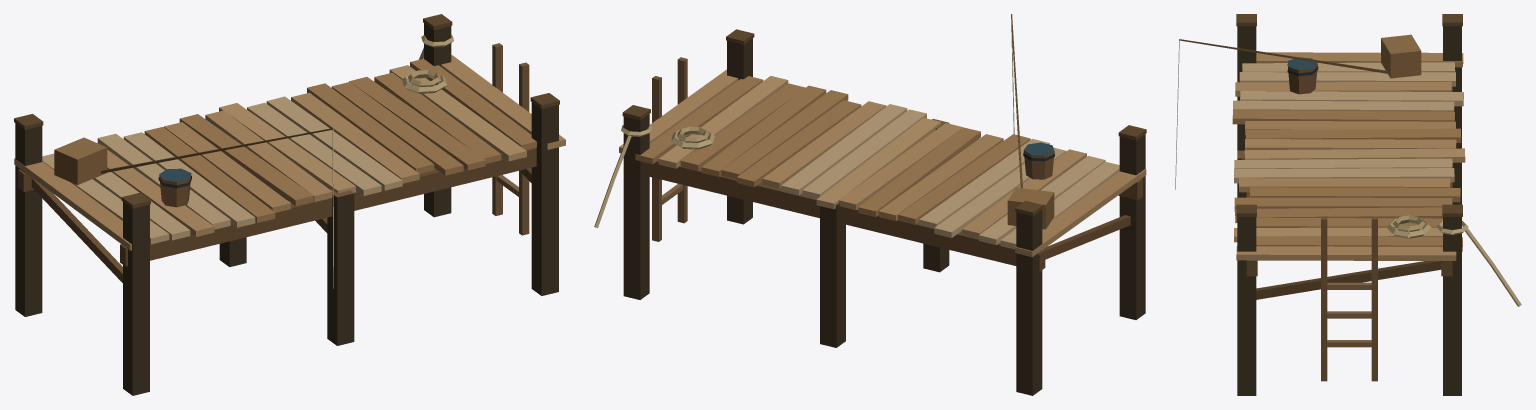
Rendered from river_dock.glb.
The picture shows the model from 3 angles, left to right: view 1: azimuth 30°, elevation 25°; view 2: azimuth 150°, elevation 25°; view 3: azimuth 270°, elevation 25°; orthographic projection. The views are drawn at different scales.
Parts seen in each view (by area): view 1: river_dock; view 2: river_dock; view 3: river_dock.
Part boxes in pixels (bbox=[...]): river_dock: bbox=[14, 14, 565, 395]; river_dock: bbox=[594, 14, 1146, 395]; river_dock: bbox=[1175, 14, 1521, 395].
Bounding box in the file's own units: 6.17 × 3.31 × 4.38.
